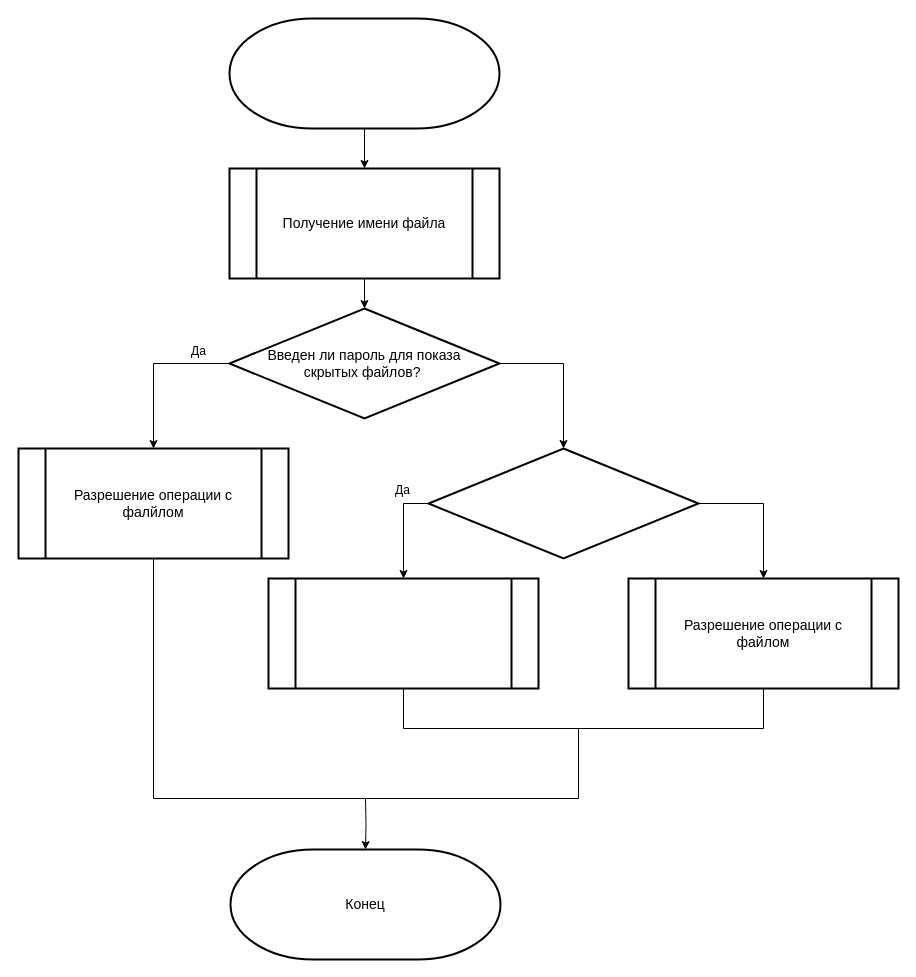
This 916x977 diagram has some shape labels left out. Here are the shapes that lost their labels. From the top down, the box of each, then its label:
(228, 17, 500, 129): Начало
(427, 447, 699, 559): Есть ли имя файла в списке файлов для скрытия?
(267, 577, 539, 689): Запрет операции с файлом
